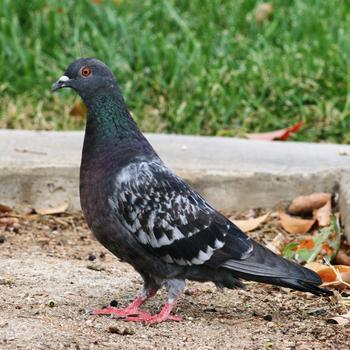Flying Rat: (48, 53, 318, 327)
